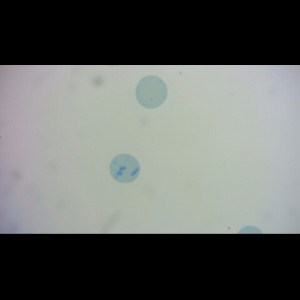aggregate reticulocyte: (109, 152, 141, 184)
punctate reticulocyte: (135, 75, 169, 110)
